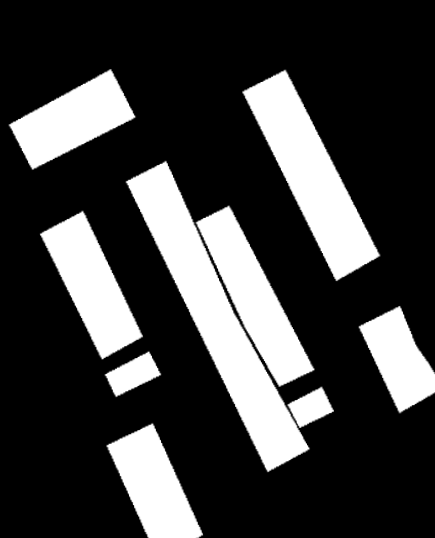parkingspot: (126, 161, 310, 472), (242, 70, 380, 281), (196, 206, 314, 387), (40, 211, 143, 359), (9, 69, 135, 170), (107, 423, 203, 538), (359, 306, 435, 413), (105, 352, 161, 397), (288, 387, 334, 428)
